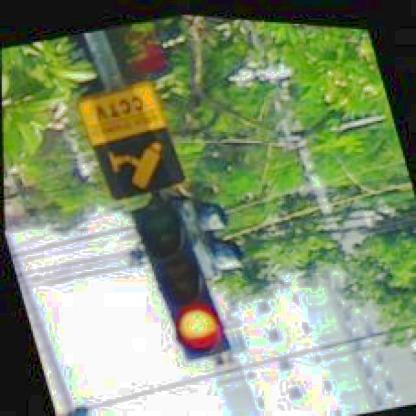Traffic Light -Red-: (126, 193, 230, 364)
